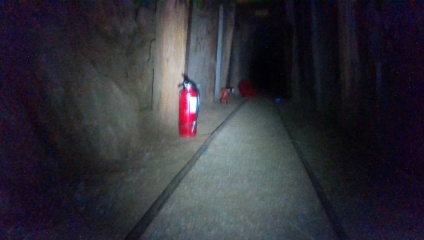backpack: (237, 78, 259, 101)
drill: (219, 86, 236, 108)
fire_extinguisher: (176, 71, 200, 137)
